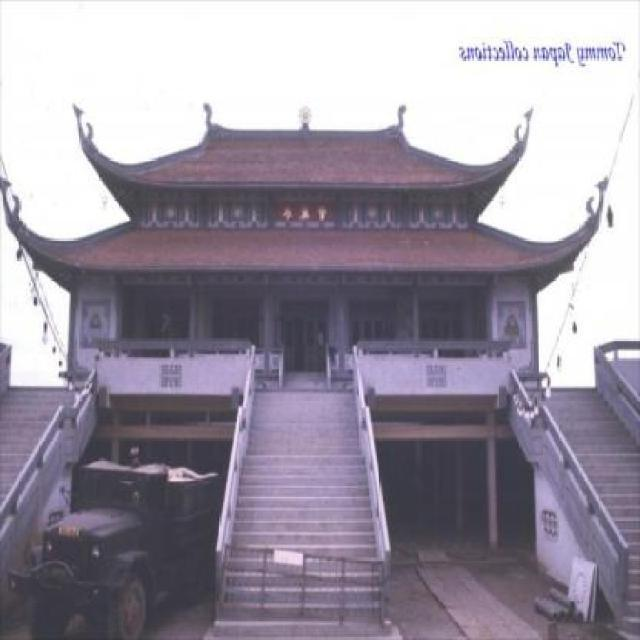stair: (212, 384, 390, 636), (520, 384, 640, 638), (2, 384, 92, 540)
